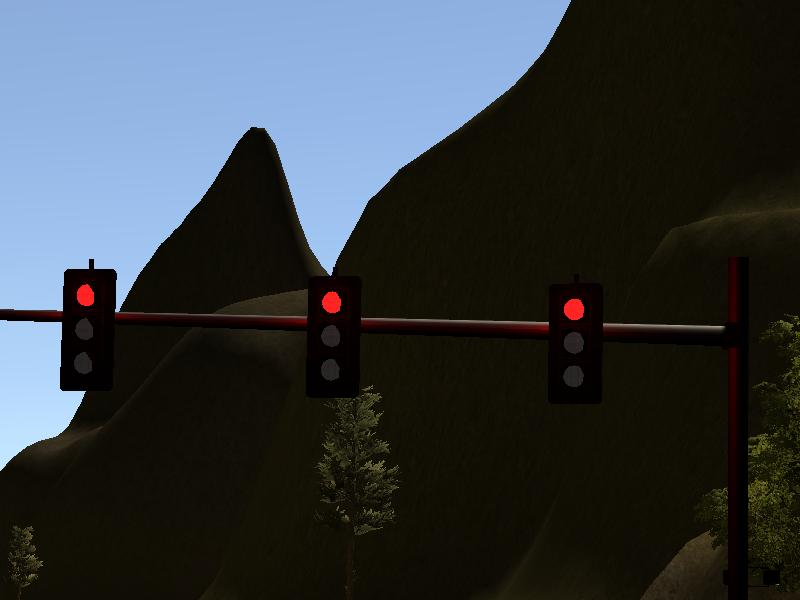Red: (548, 284, 601, 404), (62, 268, 114, 390), (308, 275, 358, 395)
